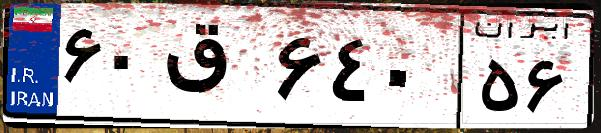0: (385, 28, 445, 110), (110, 28, 158, 98)
4: (330, 28, 385, 110)
5: (475, 38, 525, 113)
6: (270, 28, 330, 110), (57, 26, 110, 100), (525, 38, 570, 115)
ق: (158, 20, 270, 120)
